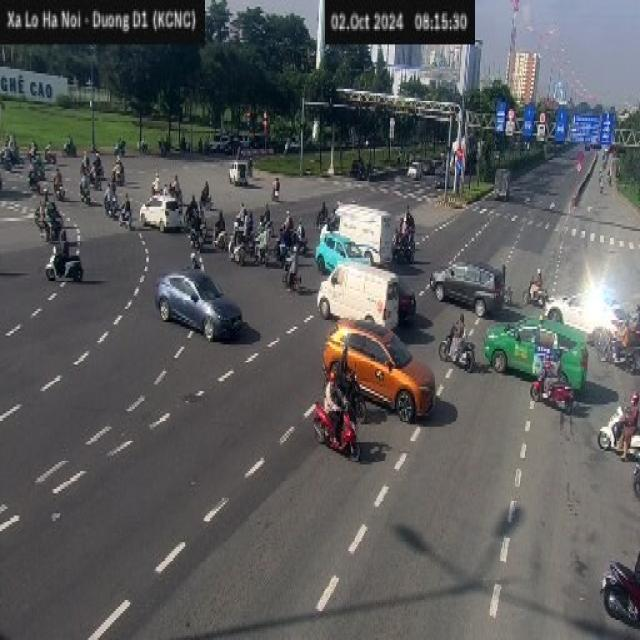car: (316, 305, 438, 426), (156, 251, 249, 345), (497, 309, 586, 402), (557, 259, 635, 360), (324, 243, 398, 330), (329, 190, 401, 275), (429, 247, 505, 318), (306, 229, 357, 291), (142, 181, 184, 244), (223, 146, 258, 196), (404, 152, 423, 184)
motorcycle: (518, 380, 578, 434), (307, 398, 362, 456), (605, 562, 640, 632), (606, 401, 640, 462), (444, 326, 476, 384), (602, 336, 639, 381), (387, 235, 422, 278), (49, 255, 87, 289), (252, 236, 280, 276), (44, 227, 70, 255), (286, 255, 304, 294), (186, 229, 203, 266), (525, 286, 550, 310), (116, 207, 132, 244), (4, 150, 25, 177), (90, 160, 112, 185), (36, 198, 51, 234), (42, 152, 69, 170), (101, 199, 119, 224), (78, 181, 96, 206), (52, 184, 74, 204), (61, 144, 81, 165), (227, 235, 243, 258), (210, 230, 230, 248), (114, 166, 129, 189), (202, 195, 218, 215), (272, 187, 288, 203), (27, 181, 44, 196), (633, 461, 640, 497)
person: (541, 328, 575, 376), (320, 360, 340, 423), (49, 219, 71, 272), (451, 302, 468, 365), (626, 390, 640, 460), (292, 231, 304, 278), (113, 132, 132, 161), (75, 164, 93, 194), (61, 130, 81, 157), (402, 210, 416, 248), (186, 193, 202, 226), (397, 211, 411, 248), (41, 185, 54, 222), (288, 243, 300, 283), (152, 162, 166, 196), (32, 150, 44, 188), (40, 134, 58, 159), (202, 172, 215, 204), (90, 138, 103, 167), (124, 187, 135, 221), (108, 176, 120, 206), (239, 210, 248, 250), (8, 126, 18, 158), (273, 164, 283, 189)
truck: (488, 154, 519, 202)
